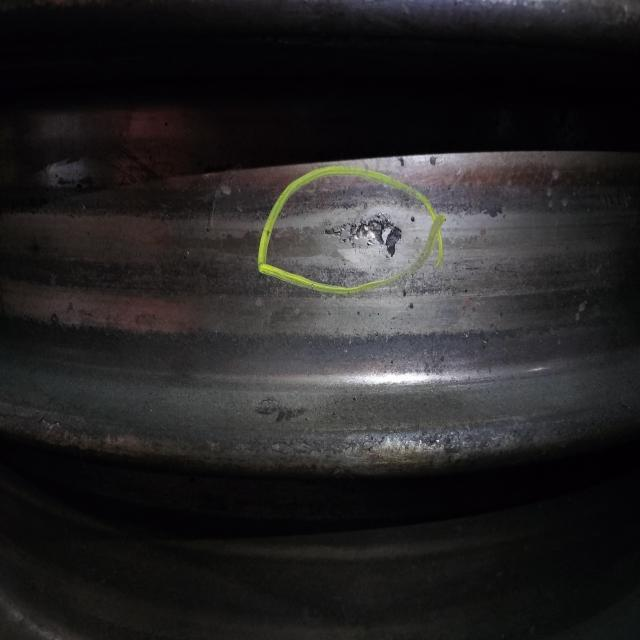Peeling: (324, 214, 402, 258)
